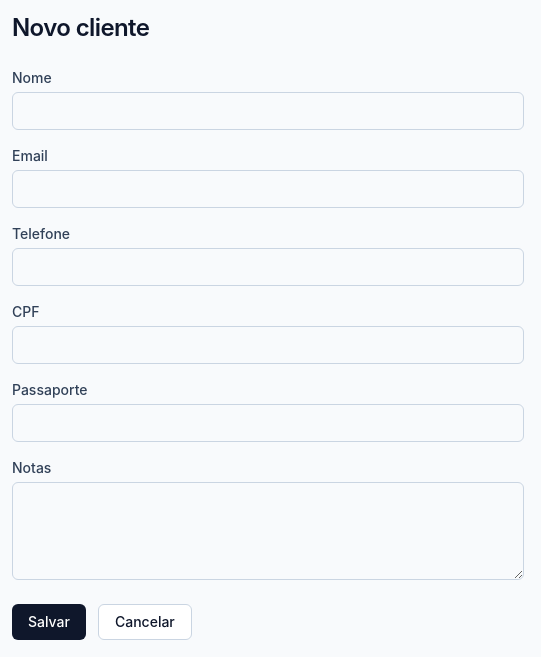
it: CustomerFormPage › shows submitting state and disables the submit button while saving
Type "Maria Silva" into the field labelled "Nome". click: x=268, y=111
box: [12,92,524,130]
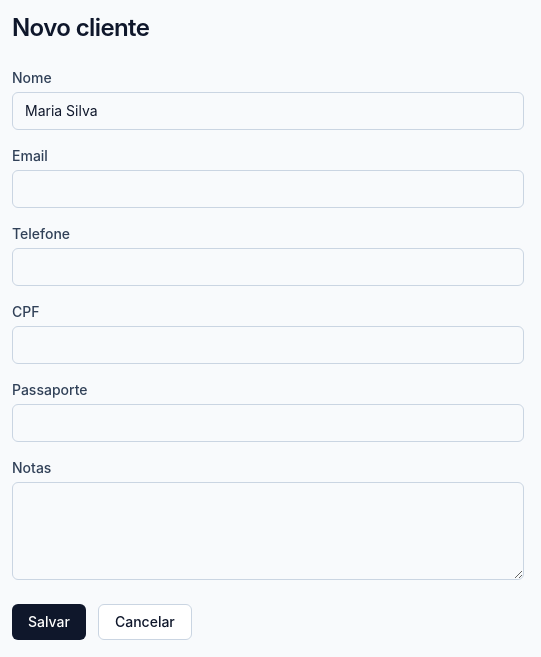
Click the button "Salvar". click: x=49, y=622
box: [12,604,86,640]
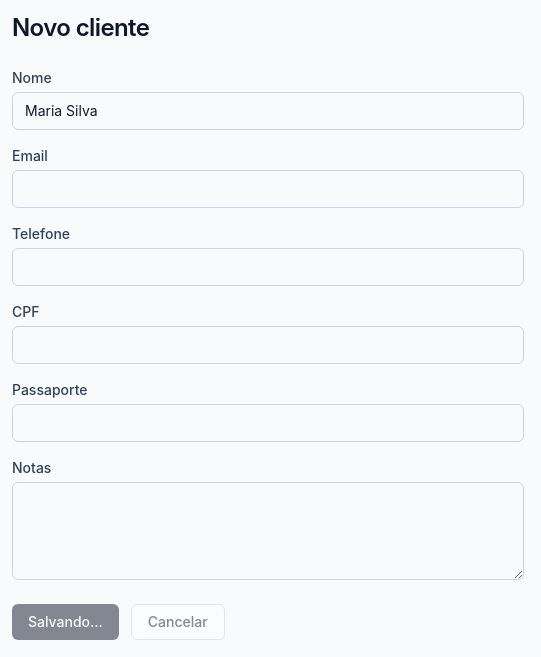
Expected: the button "Salvando..." is disabled, [12,604,119,640]
